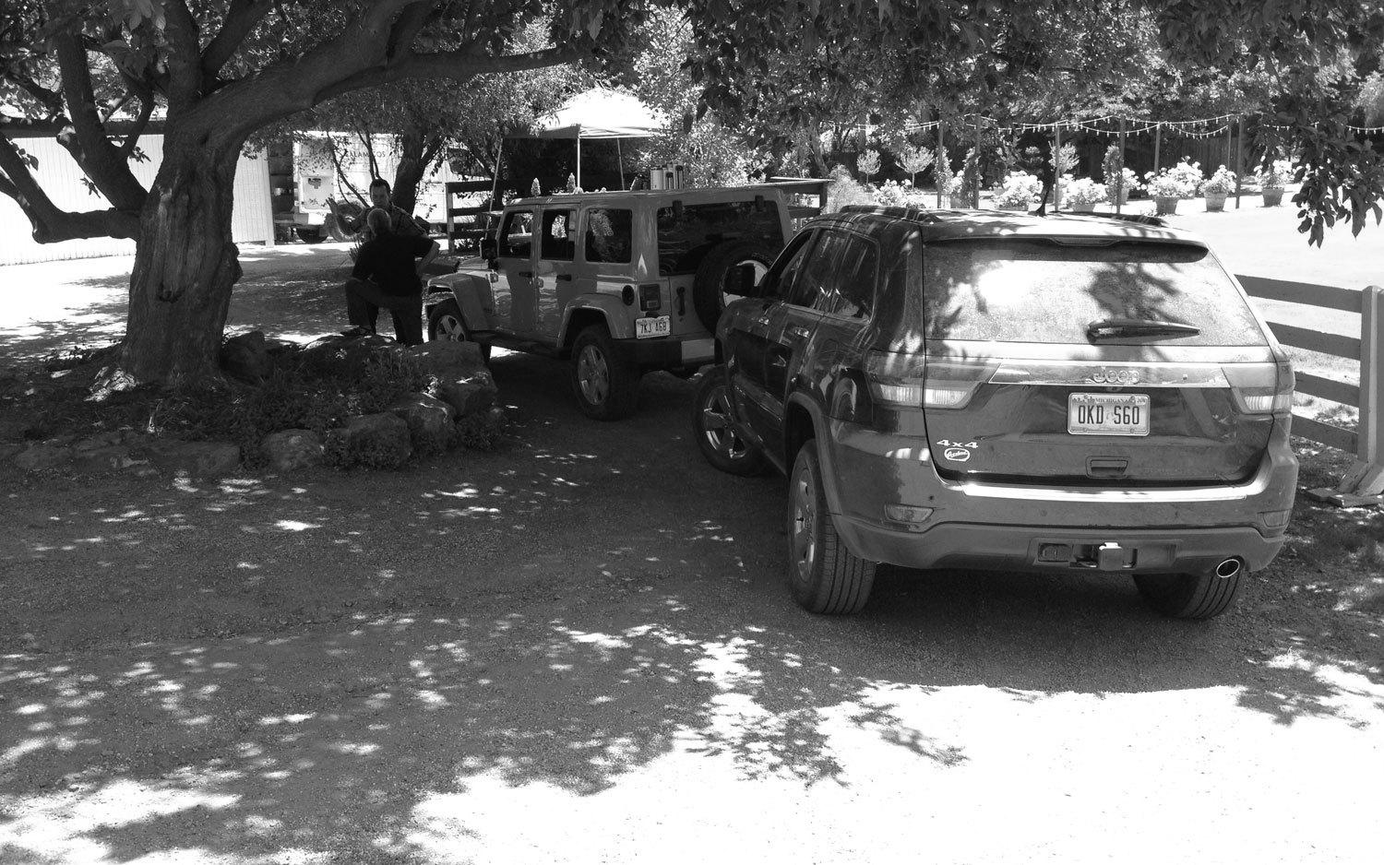car: (696, 194, 1293, 626)
